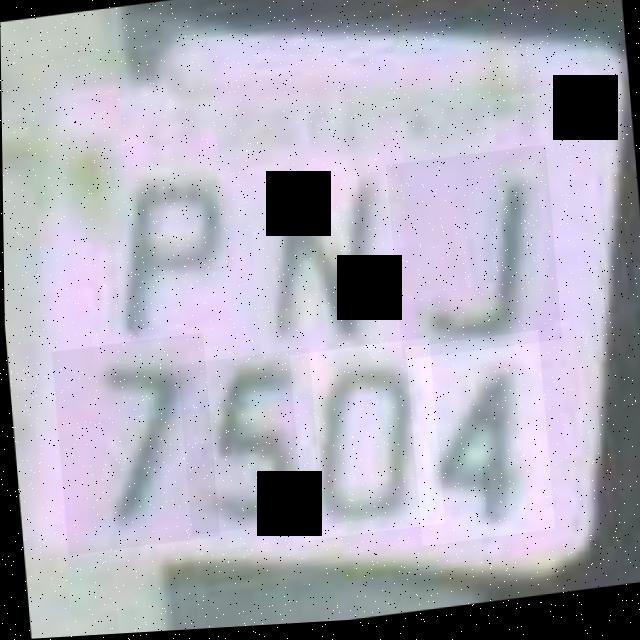0: (288, 342, 443, 545)
4: (404, 336, 553, 551)
5: (176, 350, 322, 538)
7: (49, 334, 218, 556)
L: (386, 150, 561, 365)
N: (244, 153, 404, 365)
P: (94, 146, 244, 375)
